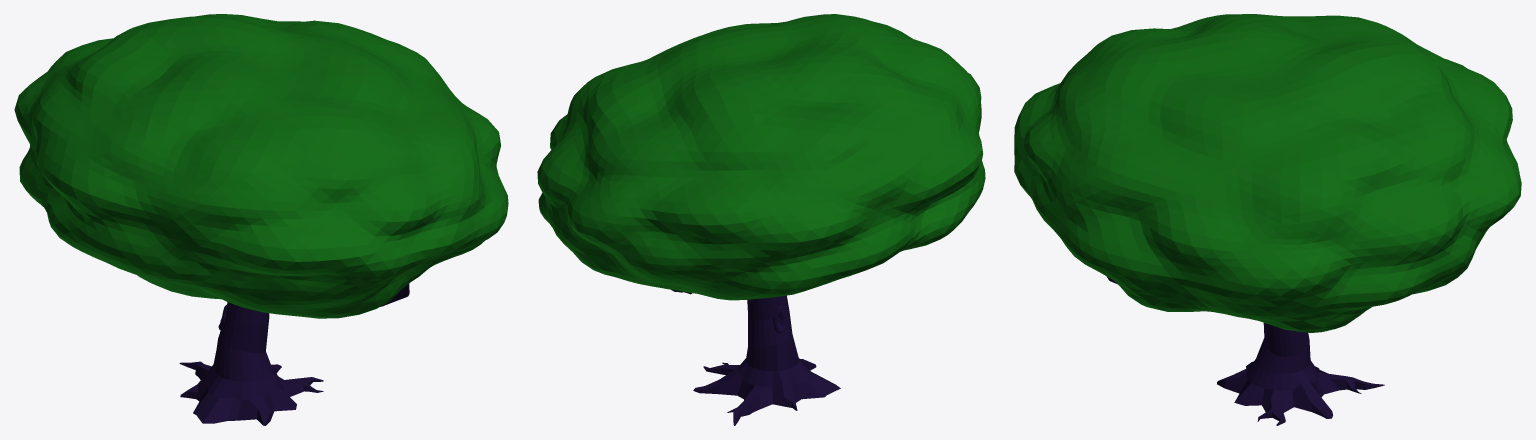
The model's file is town_square_tree.gltf.
3 views of the same model, side by side, from view 1: azimuth 30°, elevation 25°; view 2: azimuth 150°, elevation 25°; view 3: azimuth 270°, elevation 25° (orthographic). The views are drawn at different scales.
Visible parts, largest first — view 1: Leaves, Trunk-col; view 2: Leaves, Trunk-col; view 3: Leaves, Trunk-col.
Boxes of the visible parts, <box> form: Leaves: <box>14,14,508,318</box>; Trunk-col: <box>179,302,323,425</box>; Leaves: <box>537,14,985,300</box>; Trunk-col: <box>693,295,840,425</box>; Leaves: <box>1014,14,1521,332</box>; Trunk-col: <box>1217,323,1384,425</box>.
Bounding box in the file's own units: 26.04 × 20.23 × 27.36.
